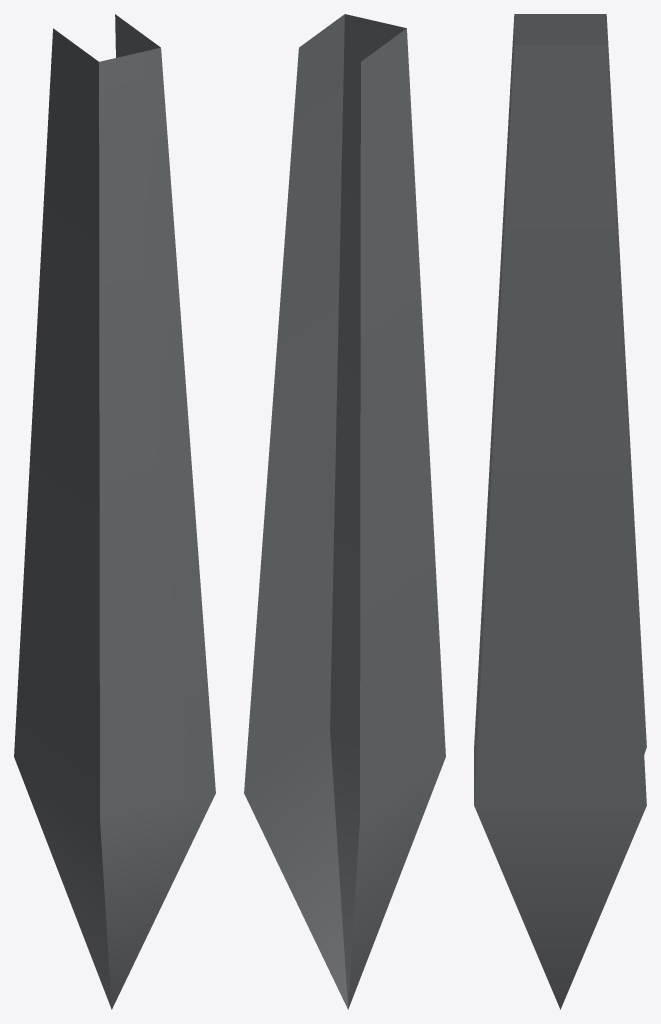
File: lancetta_minuti_V2.fbx
3 views of the same model, side by side, from view 1: azimuth 30°, elevation 25°; view 2: azimuth 150°, elevation 25°; view 3: azimuth 270°, elevation 25° (orthographic).
Parts seen in each view (by area): view 1: lancetta_minuti; view 2: lancetta_minuti; view 3: lancetta_minuti.
Boxes of the visible parts, x1,y1,x2,y2 form: lancetta_minuti: (14,14,215,1009); lancetta_minuti: (244,14,445,1009); lancetta_minuti: (474,14,646,1009).
Bounding box in the file's own units: 0.7257 × 5.82 × 0.9319.
